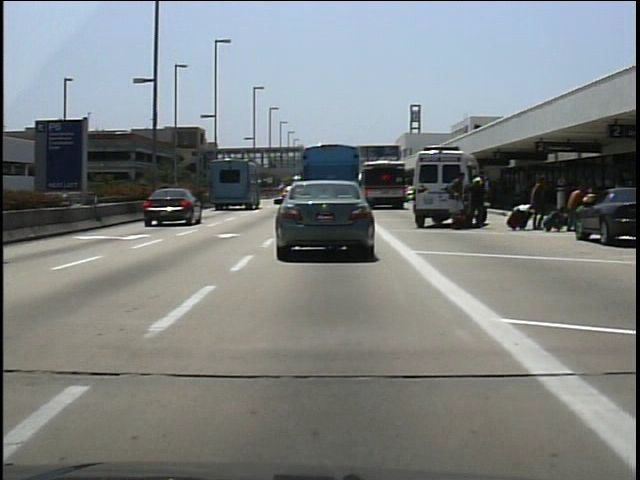person: (528, 171, 553, 237), (444, 168, 468, 232), (466, 174, 490, 230), (567, 181, 584, 218)
